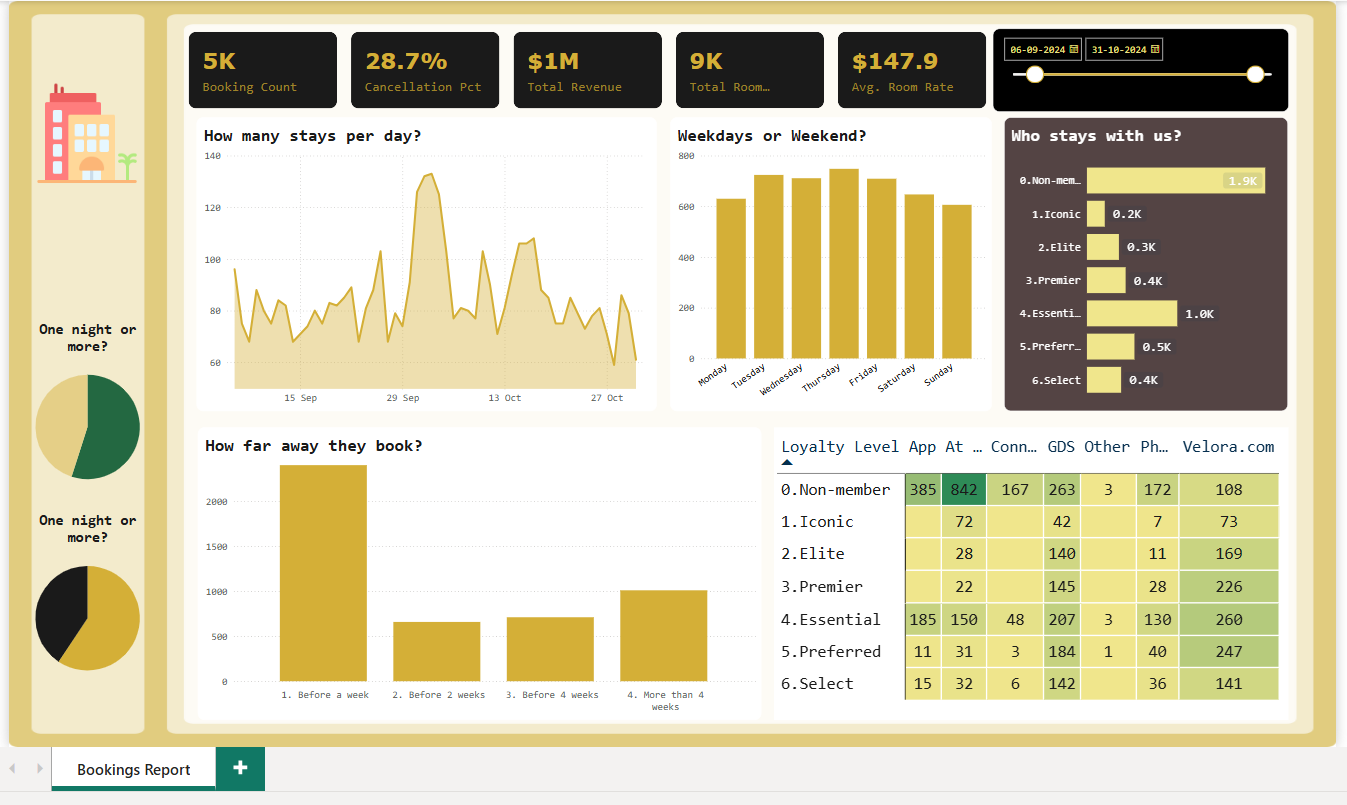

The page's visual inventory and layout, read from the dashboard file:
{"tool":"powerbi","page":{"name":"Bookings Report","canvas":[1920,1080],"ordinal":0},"visuals":[{"type":"cardVisual","fields":{"Data":["bookings.Booking Count","bookings.Cancellation Pct","bookings.Total Revenue","bookings.Total Room Nights","bookings.Avg. Room Rate"]},"box":[255.4,39,1168.6,121.2],"z":0},{"type":"lineChart","title":"How many stays per day?","fields":{"Category":["bookings.Stay Date"],"Y":["bookings.Booking Count"]},"box":[272.2,167.8,666.7,425.6],"z":1000},{"type":"slicer","fields":{"Values":["bookings.Stay Date"]},"box":[1424,39,428.5,121.2],"z":2000},{"type":"clusteredColumnChart","title":"Weekdays or Weekend?","fields":{"Category":["bookings.Day Name"],"Y":["bookings.Booking Count"]},"box":[957.8,167.8,465.6,425.6],"z":3000},{"type":"clusteredBarChart","title":"Who stays with us?","fields":{"Category":["bookings.Loyalty Level"],"Y":["bookings.Booking Count"]},"box":[1441.1,167.8,411.1,425.6],"z":4000},{"type":"clusteredColumnChart","title":"How far away they book?","fields":{"Category":["bookings.How far away bucket"],"Y":["bookings.Booking Count"]},"box":[272.7,616.8,815.9,424.2],"z":5000},{"type":"pivotTable","fields":{"Rows":["bookings.Loyalty Level"],"Columns":["bookings.Booking Channel"],"Values":["bookings.Booking Count"]},"box":[1108,616.8,744.5,424.2],"z":6000},{"type":"pieChart","title":"One night or more?","fields":{"Y":["CountNonNull(bookings.Booking ID)"],"Category":["bookings.StayType"]},"box":[15.1,461,199.1,259.7],"z":6001},{"type":"pieChart","title":"One night or more?","fields":{"Y":["bookings.Loyal Customer Booking Count","bookings.Not Loyal Customer Booking Count"]},"box":[15.1,738,199.1,259.7],"z":6002},{"type":"image","box":[36.2,99.5,153.8,184.6],"z":6003}]}

Visuals, with their boxes in screenshot pixels (x1, y1, x2, y2):
cardVisual - bookings.Booking Count x bookings.Cancellation Pct: left=220, top=26, right=999, bottom=107
"How many stays per day?" lineChart: left=231, top=112, right=676, bottom=396
slicer - bookings.Stay Date: left=999, top=26, right=1285, bottom=107
"Weekdays or Weekend?" clusteredColumnChart: left=688, top=112, right=999, bottom=396
"Who stays with us?" clusteredBarChart: left=1011, top=112, right=1285, bottom=396
"How far away they book?" clusteredColumnChart: left=231, top=412, right=776, bottom=695
pivotTable - bookings.Loyalty Level x bookings.Booking Channel: left=789, top=412, right=1285, bottom=695
"One night or more?" pieChart: left=59, top=308, right=192, bottom=481
"One night or more?" pieChart: left=59, top=492, right=192, bottom=666
image: left=73, top=66, right=176, bottom=190
